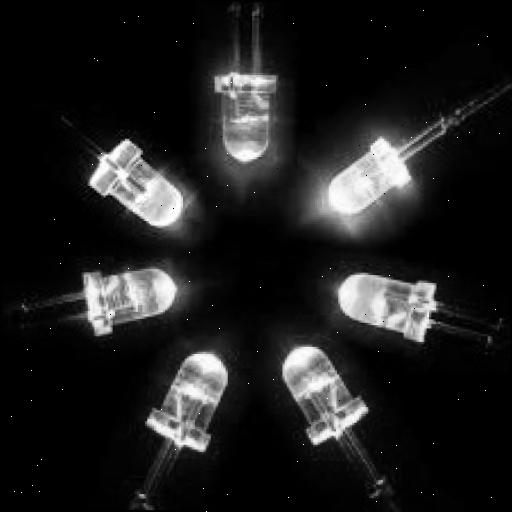LED: (260, 314, 386, 476), (72, 102, 202, 246), (46, 250, 200, 360), (184, 50, 302, 185), (331, 264, 454, 388), (289, 128, 432, 226), (162, 332, 241, 473)
